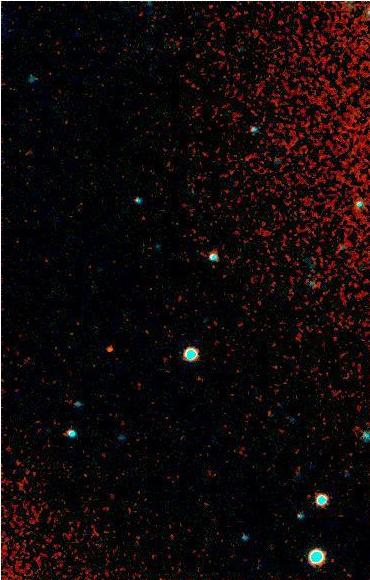star: (96, 334, 126, 364)
